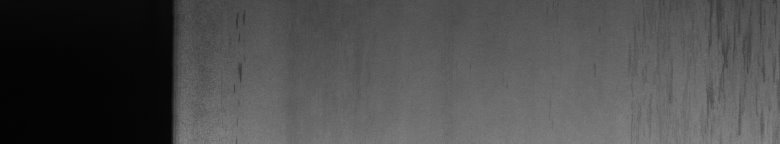ka: (707, 40, 764, 131)
